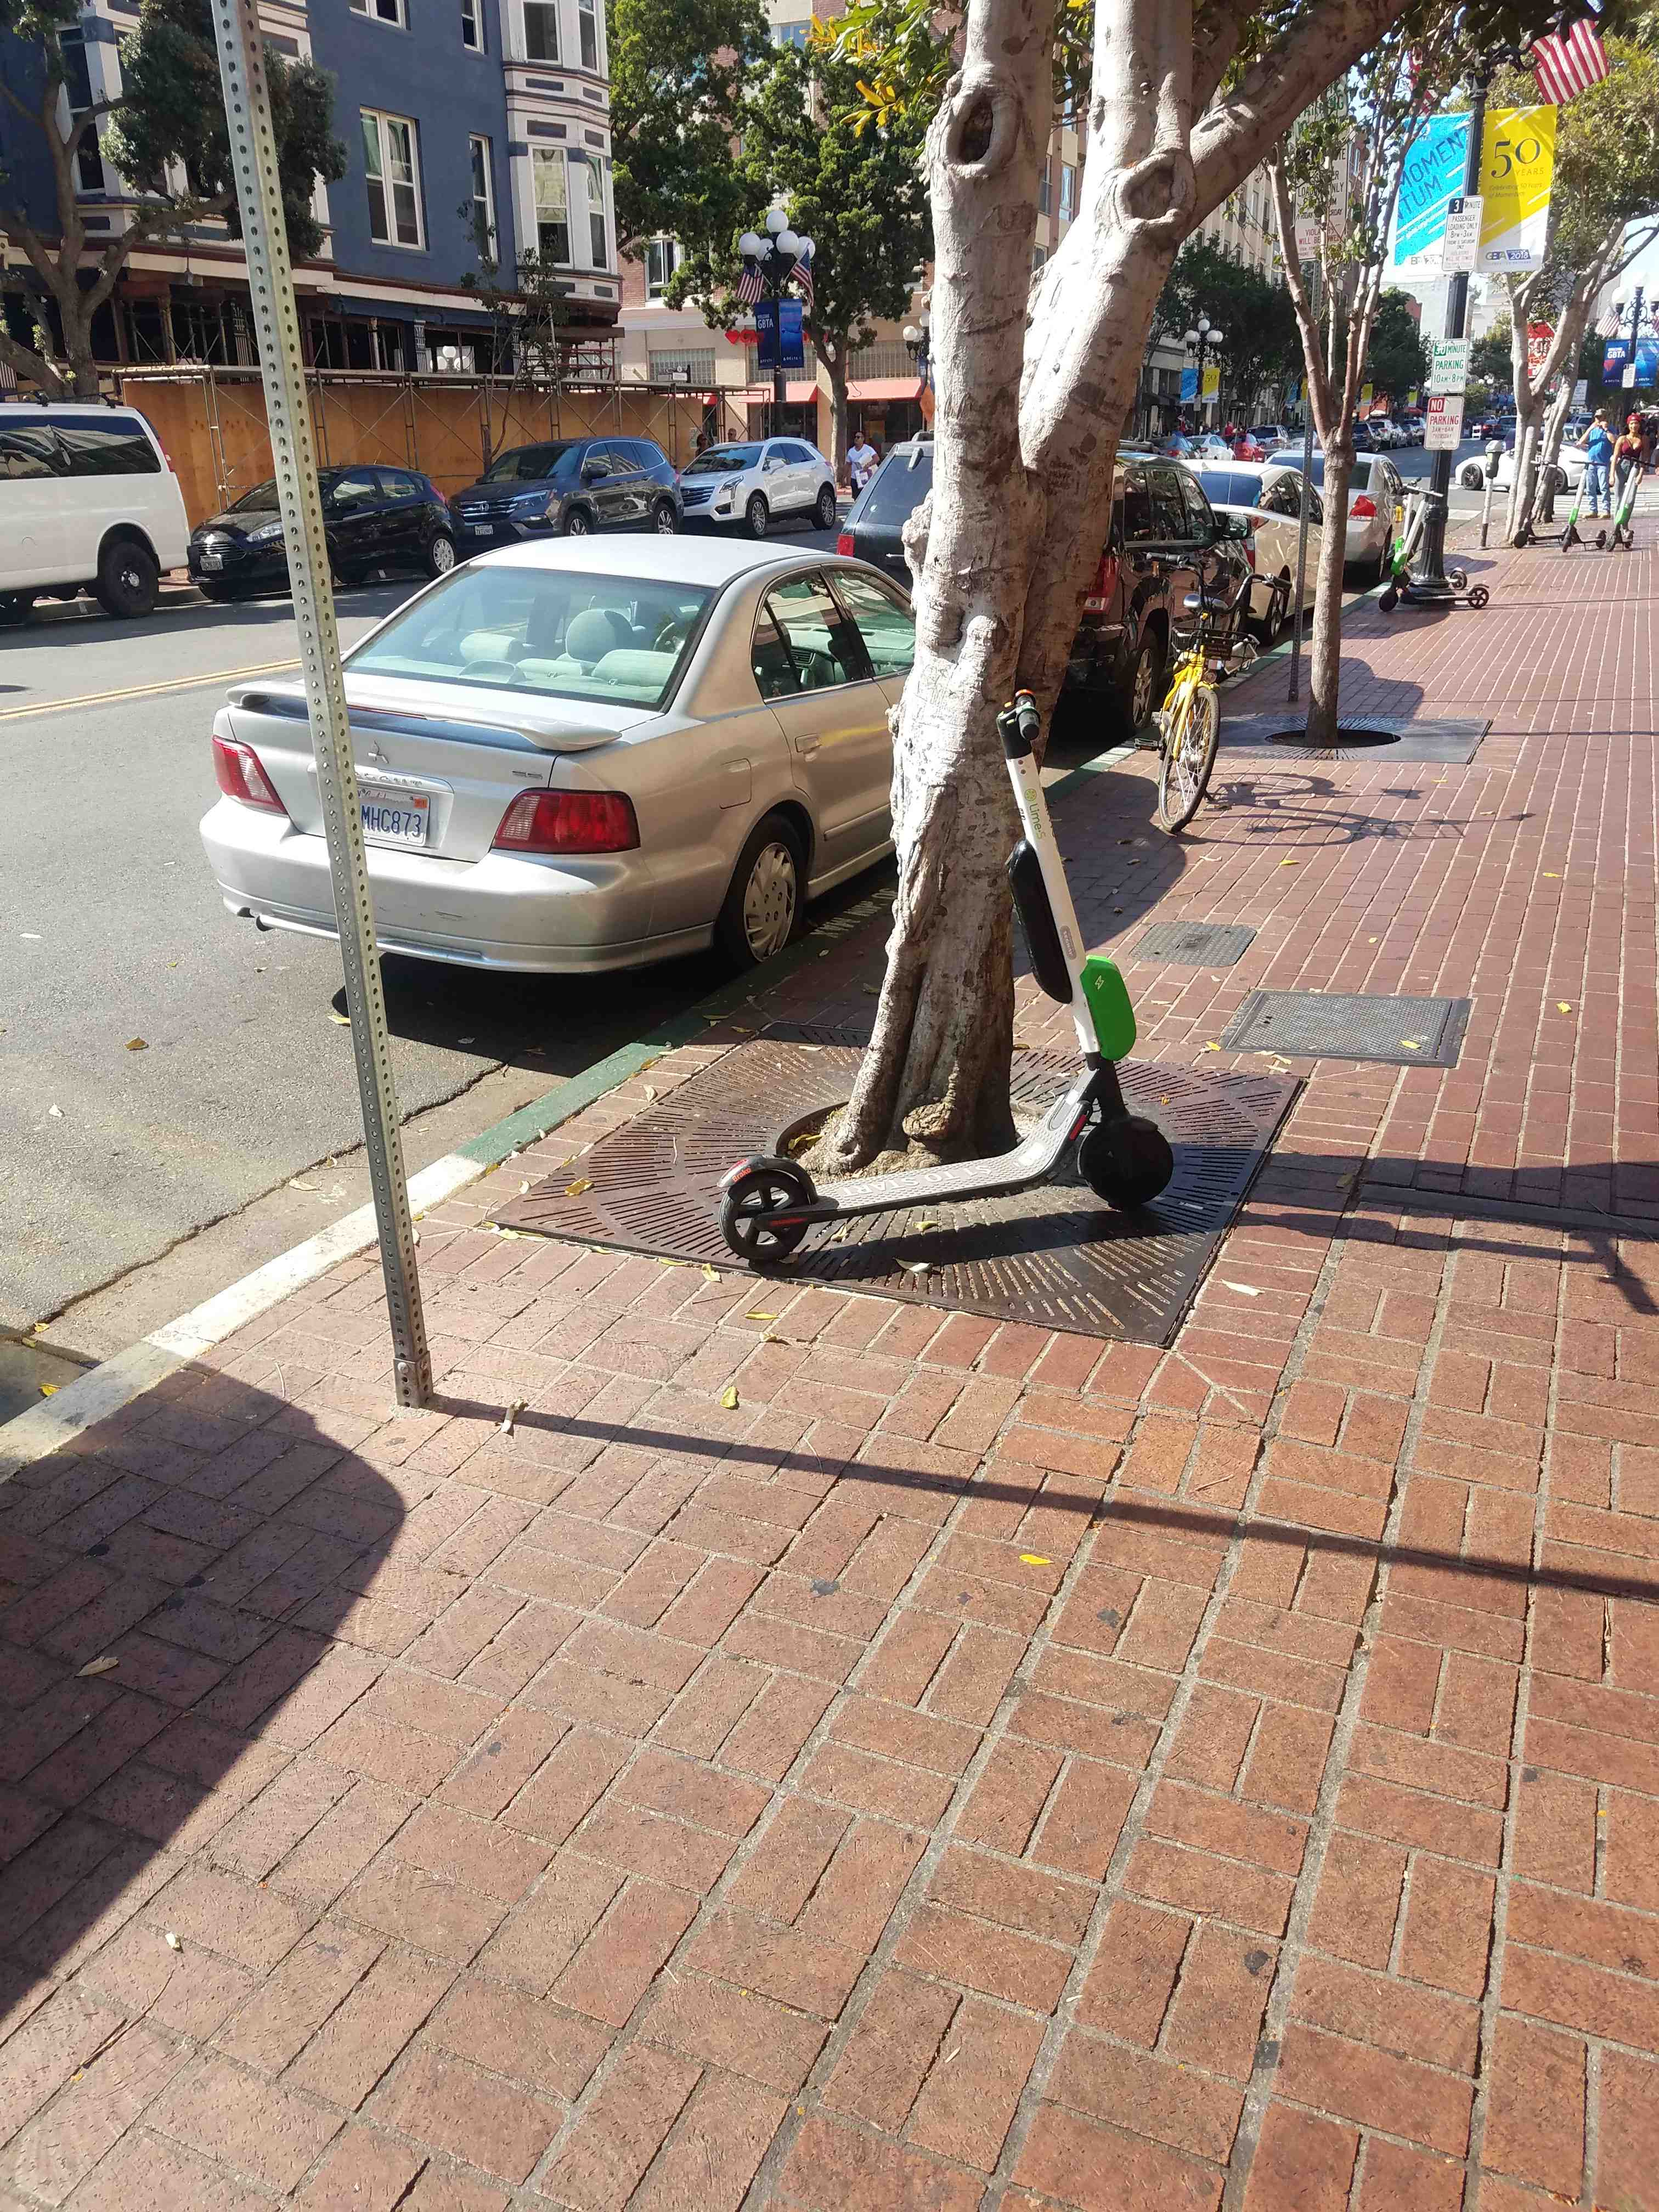scooter: (708, 725, 1218, 1301)
